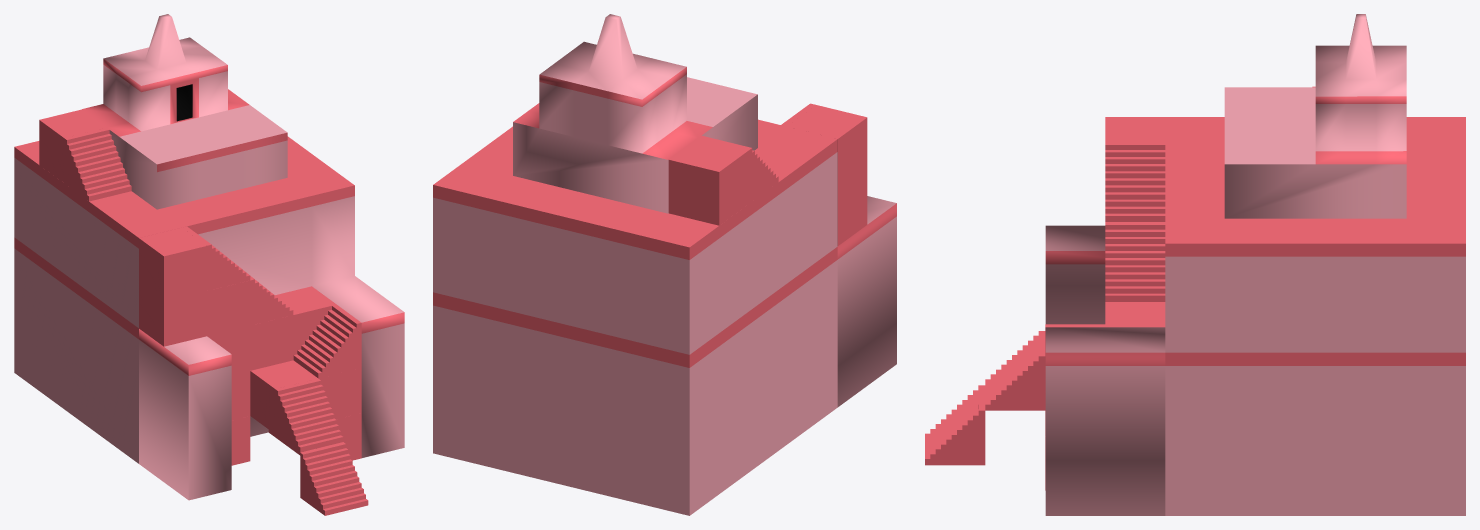
Rendered from level 2.fbx.
3 views of the same model, side by side, from view 1: azimuth 30°, elevation 25°; view 2: azimuth 150°, elevation 25°; view 3: azimuth 270°, elevation 25° (orthographic). The views are drawn at different scales.
Parts seen in each view (by area): view 1: Cube, Cube.007, Cube.005, Cube.006, Cube.001, Cube.004, Cube.013, Cube.012, Cube.022, Cube.008, Cube.014, Cube.009 (+7 smaller); view 2: Cube, Cube.022, Cube.007, Cube.013, Cube.001; view 3: Cube, Cube.002, Cube.003, Cube.006, Cube.005, Cube.007, Cube.009.
Boxes of the visible parts, x1,y1,x2,y2 form: Cube: (14, 14, 404, 500); Cube.007: (139, 227, 206, 301); Cube.005: (275, 378, 343, 452); Cube.006: (300, 442, 368, 515); Cube.001: (64, 127, 131, 201); Cube.004: (293, 304, 361, 378); Cube.013: (139, 283, 206, 346); Cube.012: (250, 360, 317, 433); Cube.022: (39, 109, 106, 182); Cube.008: (250, 315, 293, 370); Cube.014: (207, 280, 250, 335); Cube.009: (275, 286, 336, 354); Cube: (433, 14, 896, 515); Cube.022: (668, 138, 748, 225); Cube.007: (787, 105, 867, 192); Cube.013: (837, 171, 867, 245); Cube.001: (698, 135, 778, 203); Cube: (1045, 14, 1465, 515); Cube.002: (1105, 142, 1165, 221); Cube.003: (1105, 222, 1165, 301); Cube.006: (925, 385, 985, 465); Cube.005: (985, 331, 1045, 410); Cube.007: (1105, 117, 1165, 142); Cube.009: (1105, 302, 1165, 327).
Size of the model in its own units: 2000 by 3202 by 3600.
